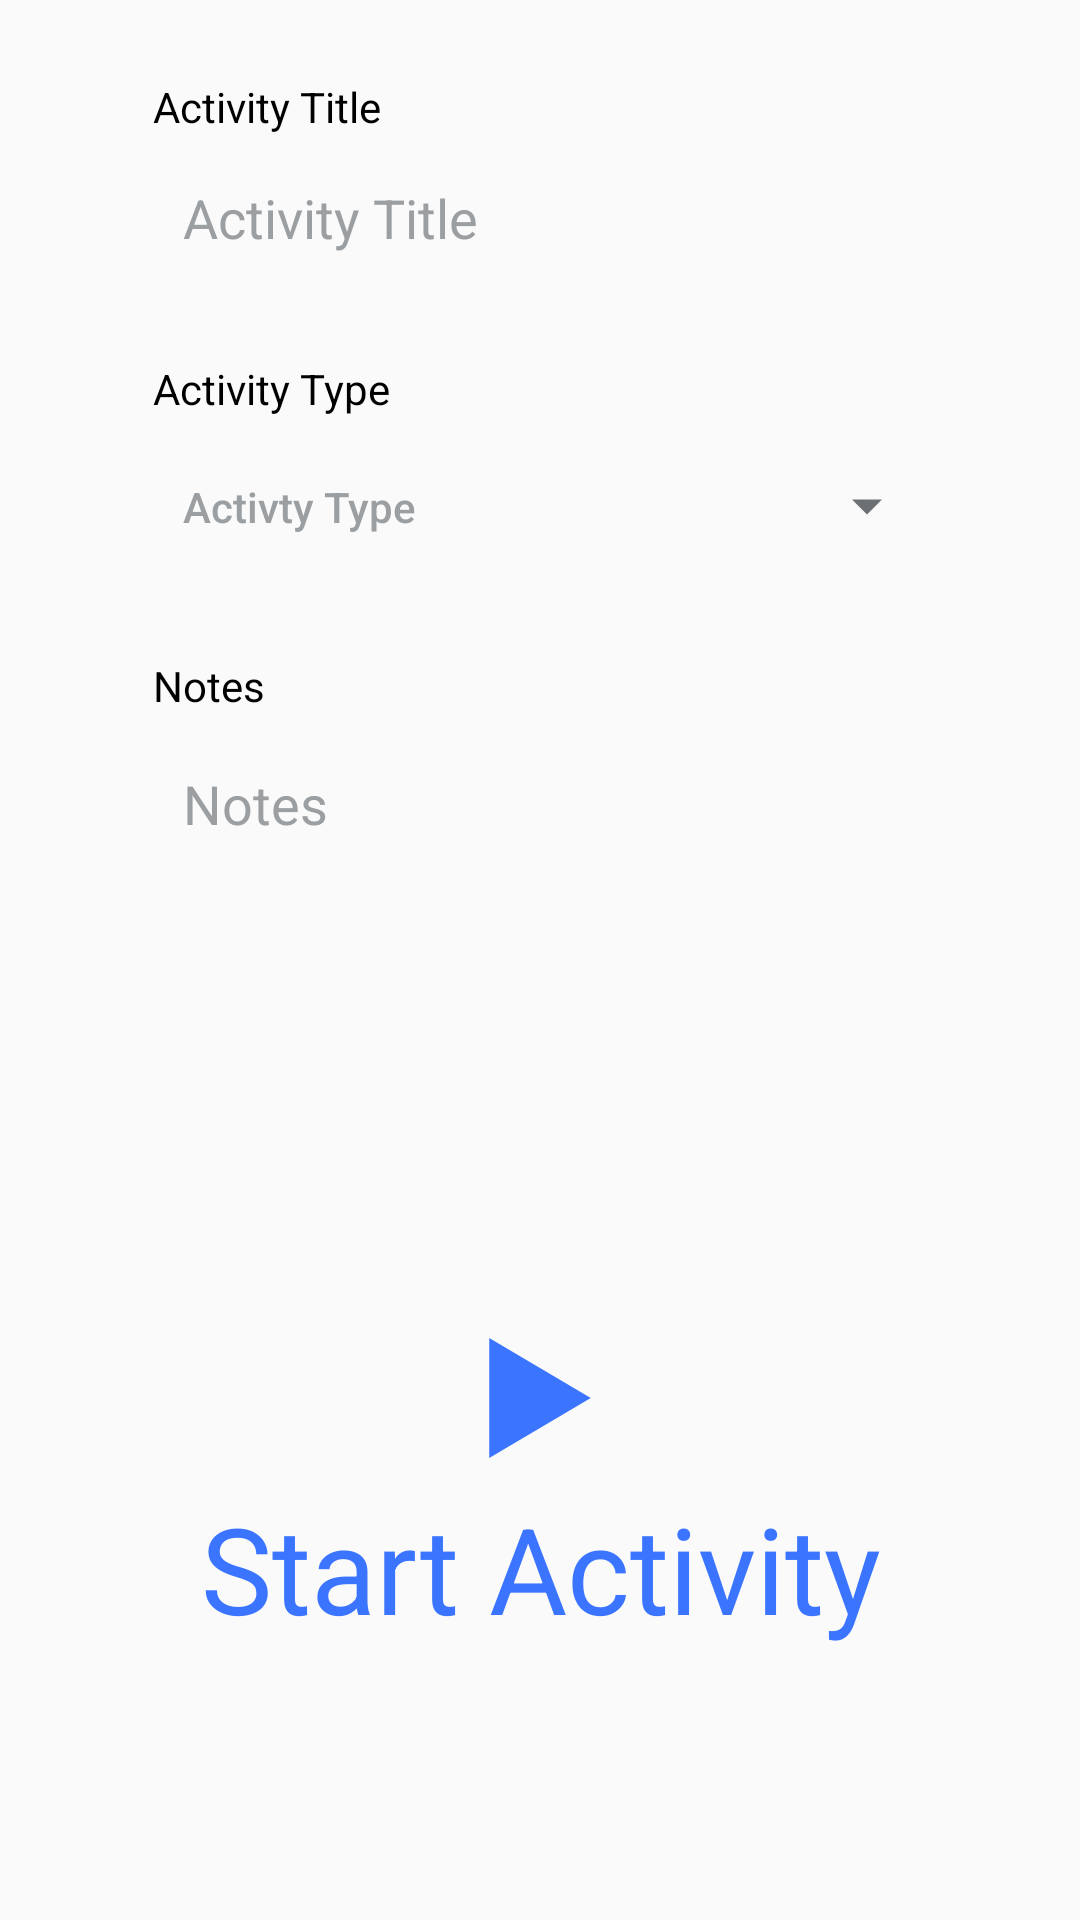

Point at icon controls on the screen. Image size 1080*1920, points as (x=x, y=y).
down arrow: (x=867, y=506)
